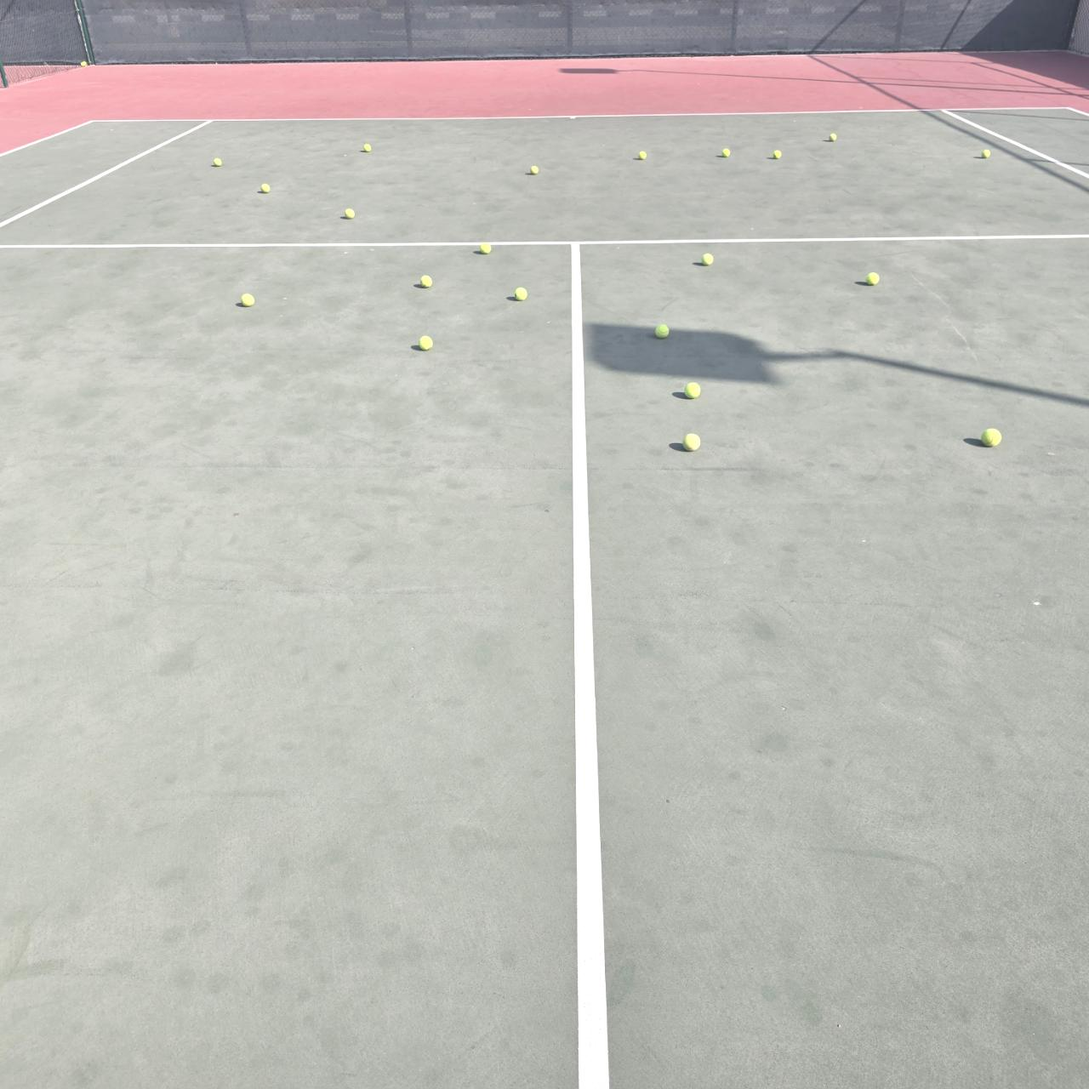tennis-ball: (980, 428, 1001, 447), (681, 431, 700, 451), (684, 382, 700, 398), (418, 335, 433, 350), (654, 324, 669, 339), (866, 271, 880, 285), (241, 293, 254, 306), (514, 287, 527, 300), (701, 253, 714, 266), (420, 275, 432, 288), (479, 242, 491, 254), (344, 208, 355, 220), (260, 183, 271, 194), (981, 149, 991, 159), (773, 149, 782, 160), (530, 165, 539, 175), (638, 150, 647, 160), (722, 148, 731, 158), (213, 158, 222, 167), (363, 143, 372, 152), (829, 133, 837, 142), (80, 60, 88, 68)
